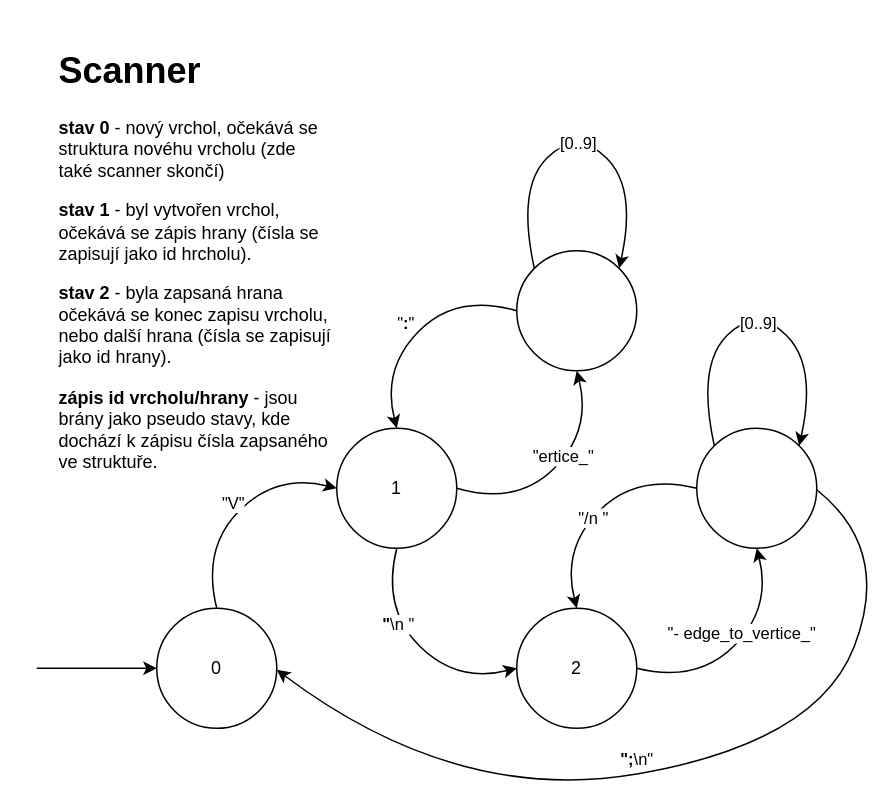
The diagram is 894 pixels wide and 807 high, and some of its shapes have lost their labels. The shapes that lost their labels are listed below. From the top down, each one's centre as x and y in pixels, then its label:
(x=576, y=310): zápis id vrcholu
(x=756, y=487): zápis id hrany
